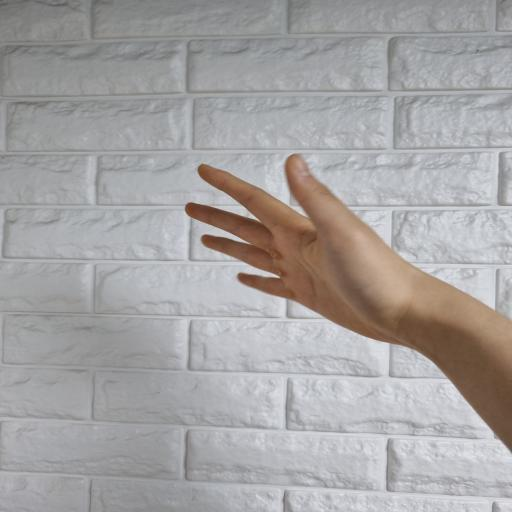Paper: (184, 152, 490, 382)
